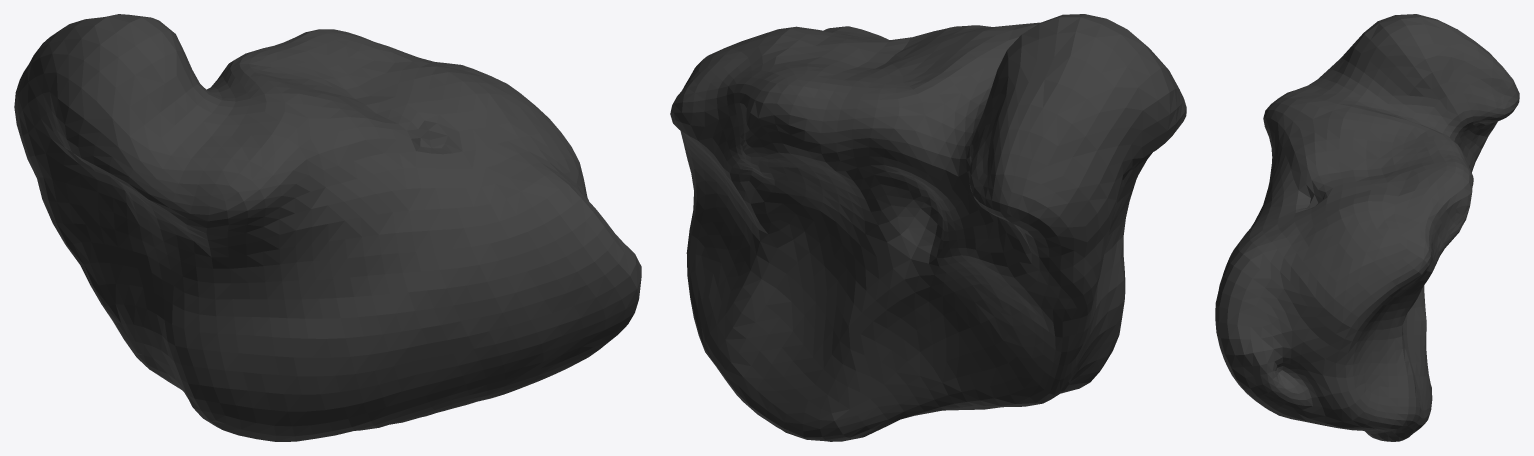
File: Intermedioradial_carpal_bone.glb
3 views of the same model, side by side, from view 1: azimuth 30°, elevation 25°; view 2: azimuth 150°, elevation 25°; view 3: azimuth 270°, elevation 25° (orthographic). The views are drawn at different scales.
Parts seen in each view (by area): view 1: Intermedioradial_carpal_bone; view 2: Intermedioradial_carpal_bone; view 3: Intermedioradial_carpal_bone.
Part boxes in pixels (bbox=[...]): Intermedioradial_carpal_bone: bbox=[14, 14, 641, 441]; Intermedioradial_carpal_bone: bbox=[670, 14, 1186, 441]; Intermedioradial_carpal_bone: bbox=[1215, 14, 1519, 441].
Bounding box in the file's own units: 0.2808 × 0.248 × 0.2112.
1 material, 1 textured.
